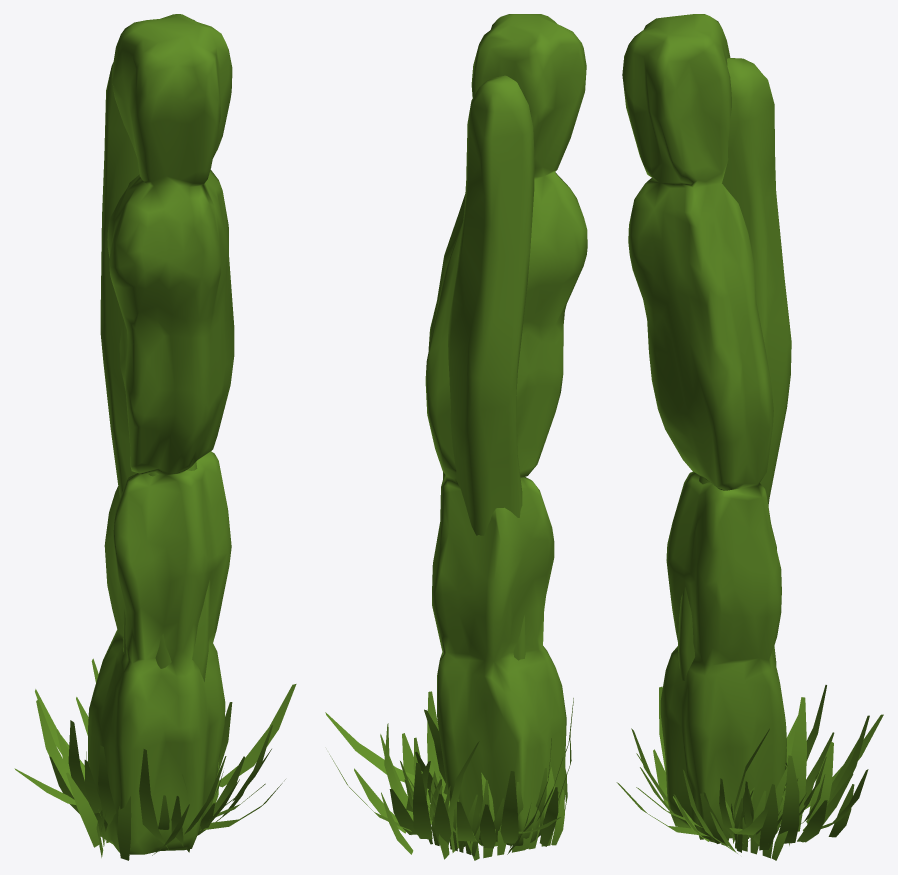
Rendered from Foliage.fbx.
3 renders of one model, left to right at view 1: azimuth 30°, elevation 25°; view 2: azimuth 150°, elevation 25°; view 3: azimuth 270°, elevation 25°, orthographic. The views are drawn at different scales.
Parts seen in each view (by area): view 1: pCylinder14, polySurface121, pCylinder9, polySurface81; view 2: pCylinder14, pCylinder9, polySurface121, polySurface81; view 3: pCylinder14, pCylinder9, polySurface121, polySurface81.
Part boxes in pixels (<box>): pCylinder14: <box>88,14,234,854</box>; polySurface121: <box>14,658,296,860</box>; pCylinder9: <box>100,62,210,681</box>; polySurface81: <box>66,762,219,857</box>; pCylinder14: <box>425,14,587,845</box>; pCylinder9: <box>448,75,534,846</box>; polySurface121: <box>325,691,573,854</box>; polySurface81: <box>406,709,564,860</box>; pCylinder14: <box>622,14,786,840</box>; pCylinder9: <box>678,57,791,838</box>; polySurface121: <box>616,685,883,853</box>; polySurface81: <box>699,697,833,860</box>.
Bounding box in the file's own units: 77.32 × 234 × 70.41.
